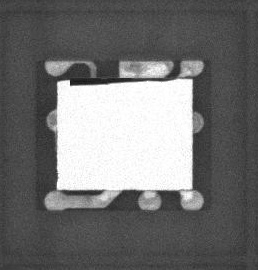DIE_BROKEN: (69, 76, 170, 88)
